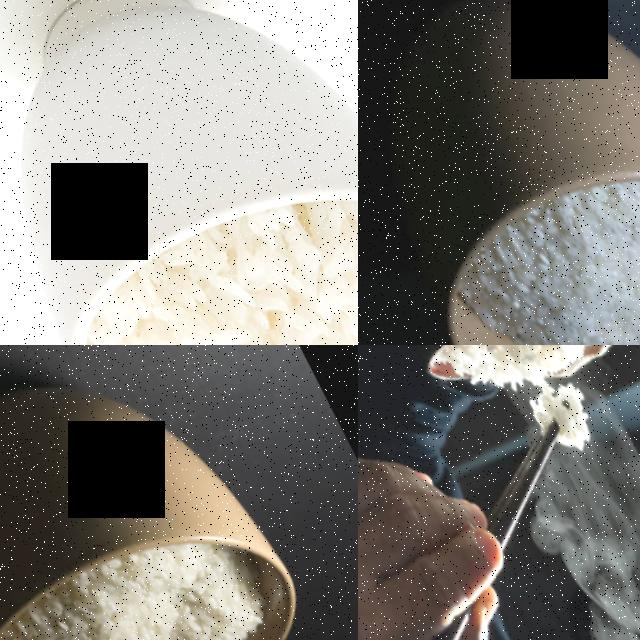white rice: (34, 141, 358, 345), (414, 124, 640, 345), (0, 513, 274, 640), (413, 345, 626, 414)
